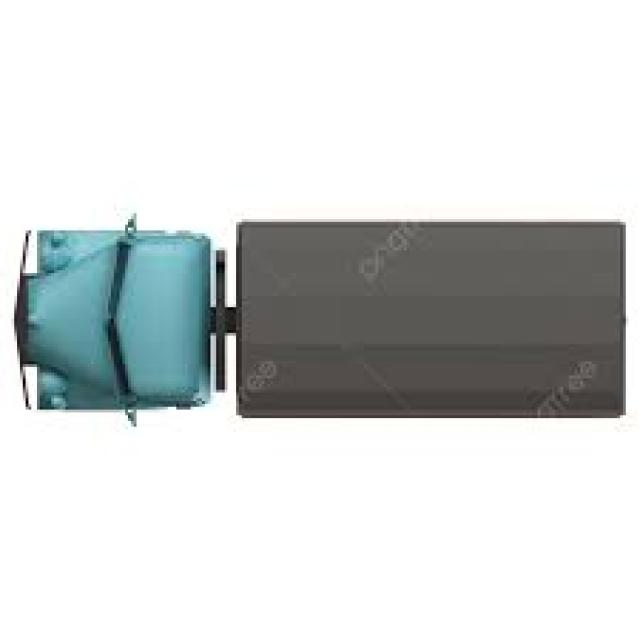truck: (15, 220, 627, 420)
